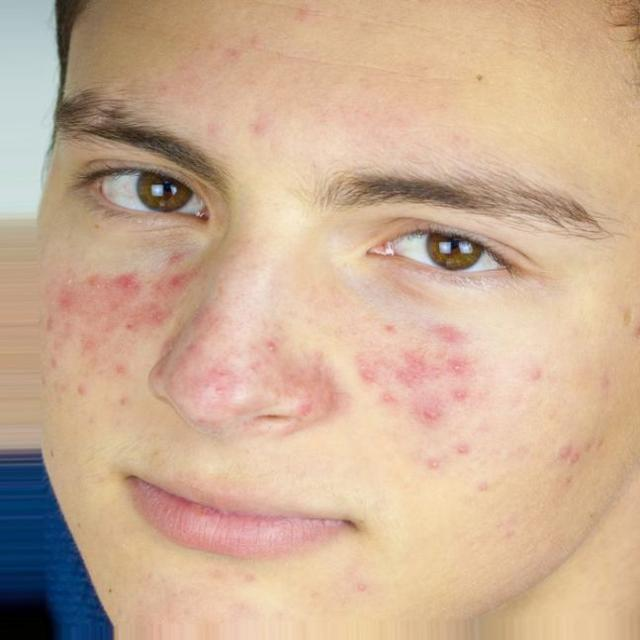acne: (54, 276, 202, 410), (179, 325, 317, 452), (354, 302, 472, 434)
